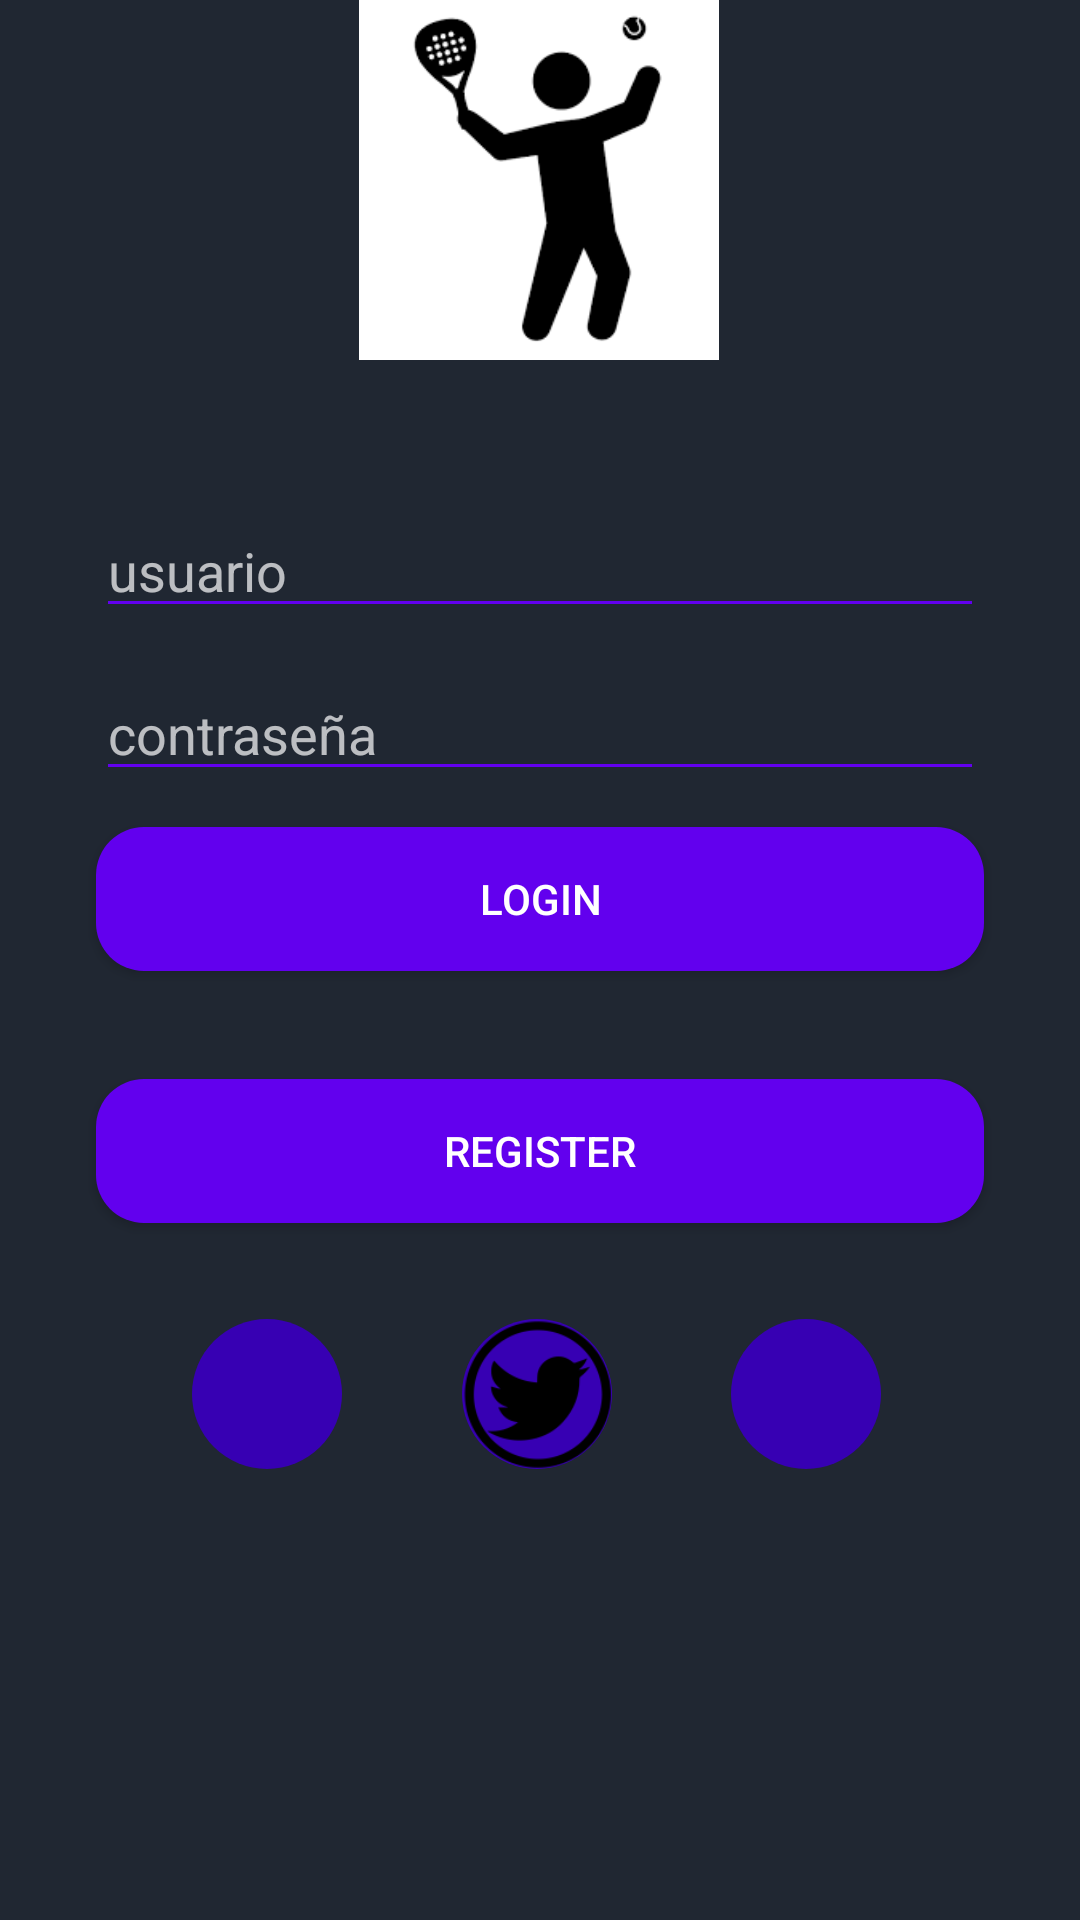

Named icons in this screenshot (1080w x 1920h) and their centers, (x,y):
padel: (539,180)
